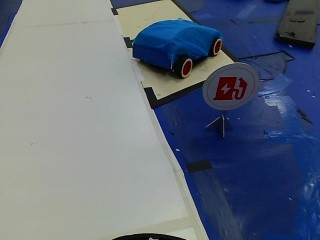battery: (206, 67, 261, 116)
car: (127, 12, 229, 78)
